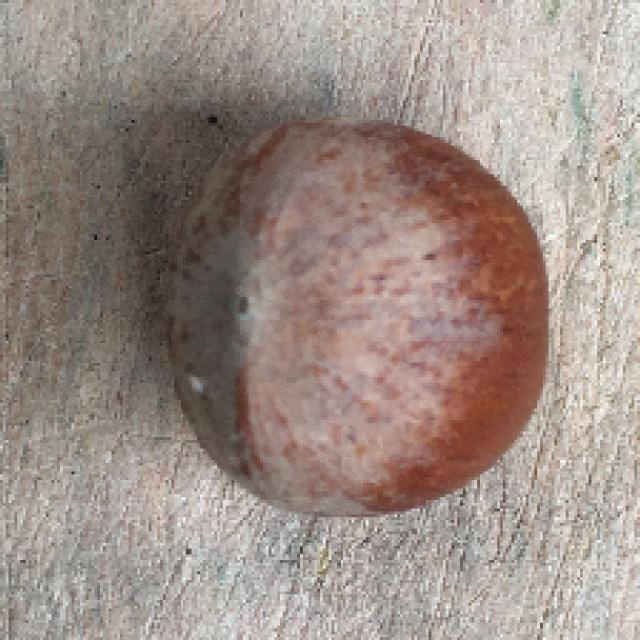qualityHazelnut: (159, 113, 553, 524)
